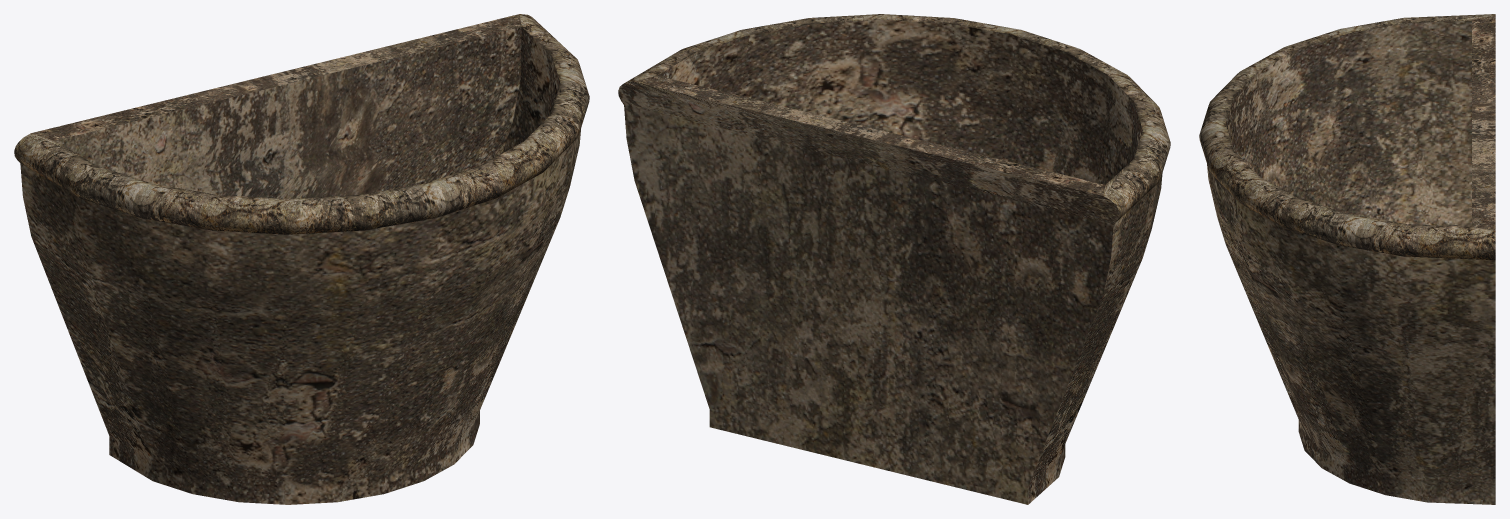
The model's file is materials_5_pot_12.fbx.
3 renders of one model, left to right at view 1: azimuth 30°, elevation 25°; view 2: azimuth 150°, elevation 25°; view 3: azimuth 270°, elevation 25°, orthographic. The views are drawn at different scales.
Visible parts, largest first — view 1: materials_5_pot_12; view 2: materials_5_pot_12; view 3: materials_5_pot_12.
Boxes of the visible parts, box(x1,y1,x2,y2) form: materials_5_pot_12: box(14, 14, 589, 504); materials_5_pot_12: box(618, 14, 1170, 504); materials_5_pot_12: box(1199, 14, 1495, 504).
Bounding box in the file's own units: 46.91 × 29.26 × 25.49.
